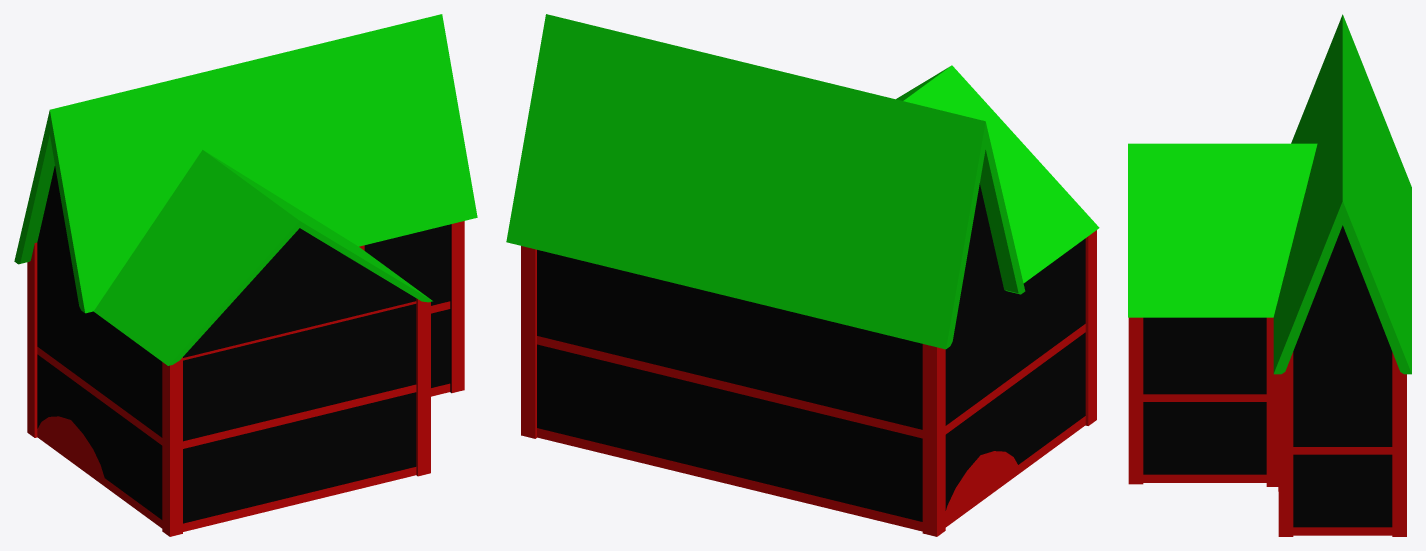
File: CafeTop.fbx
The picture shows the model from 3 angles, left to right: view 1: azimuth 30°, elevation 25°; view 2: azimuth 150°, elevation 25°; view 3: azimuth 270°, elevation 25°; orthographic projection. The views are drawn at different scales.
Visible parts, largest first — view 1: CafeTop1; view 2: CafeTop1; view 3: CafeTop1.
Boxes of the visible parts, <box> form: CafeTop1: <box>14,14,477,536</box>; CafeTop1: <box>506,14,1099,536</box>; CafeTop1: <box>1128,14,1411,536</box>.
Size of the model in its own units: 16 by 13.71 by 10.27.
